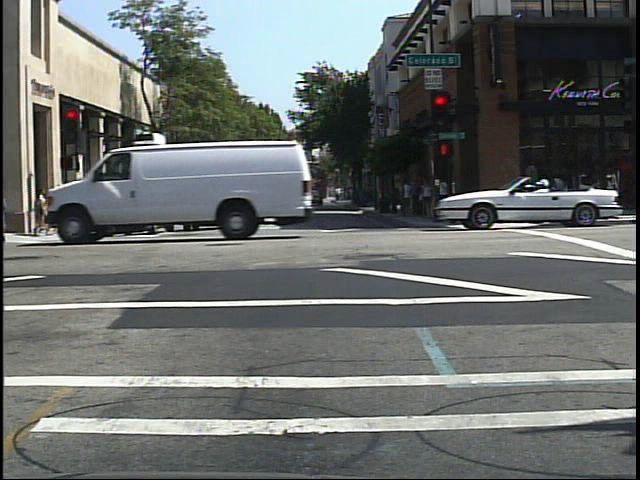person: (89, 180, 109, 230)
